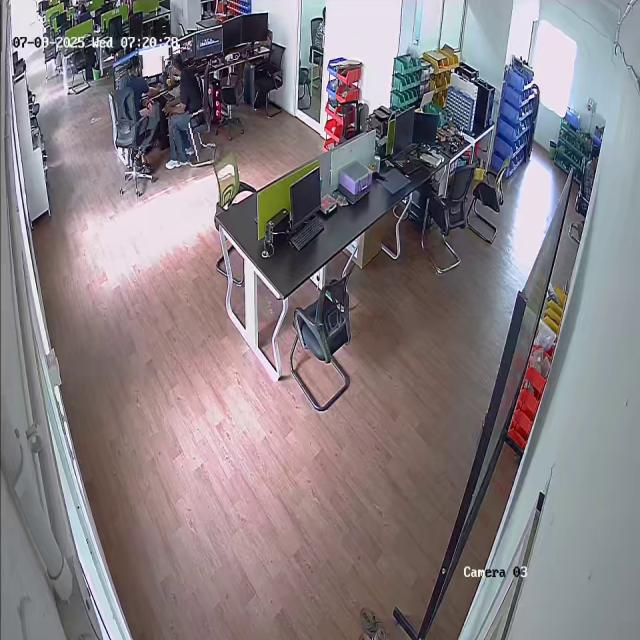person: (164, 51, 208, 164), (119, 55, 160, 168)
